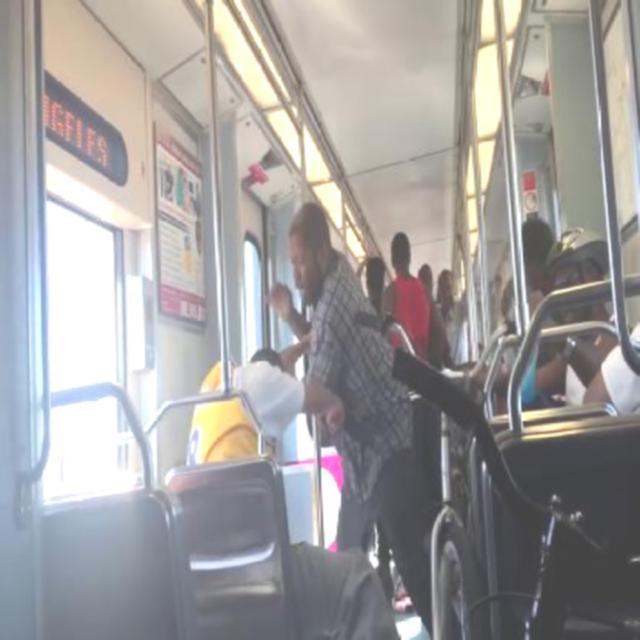fight: (184, 200, 404, 462)
